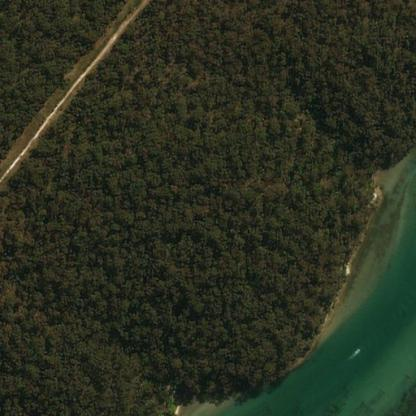ship: (356, 331, 360, 336)
